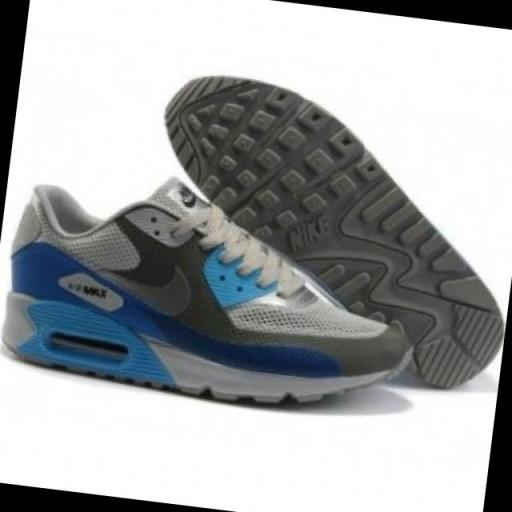Nike: (17, 223, 212, 320)
